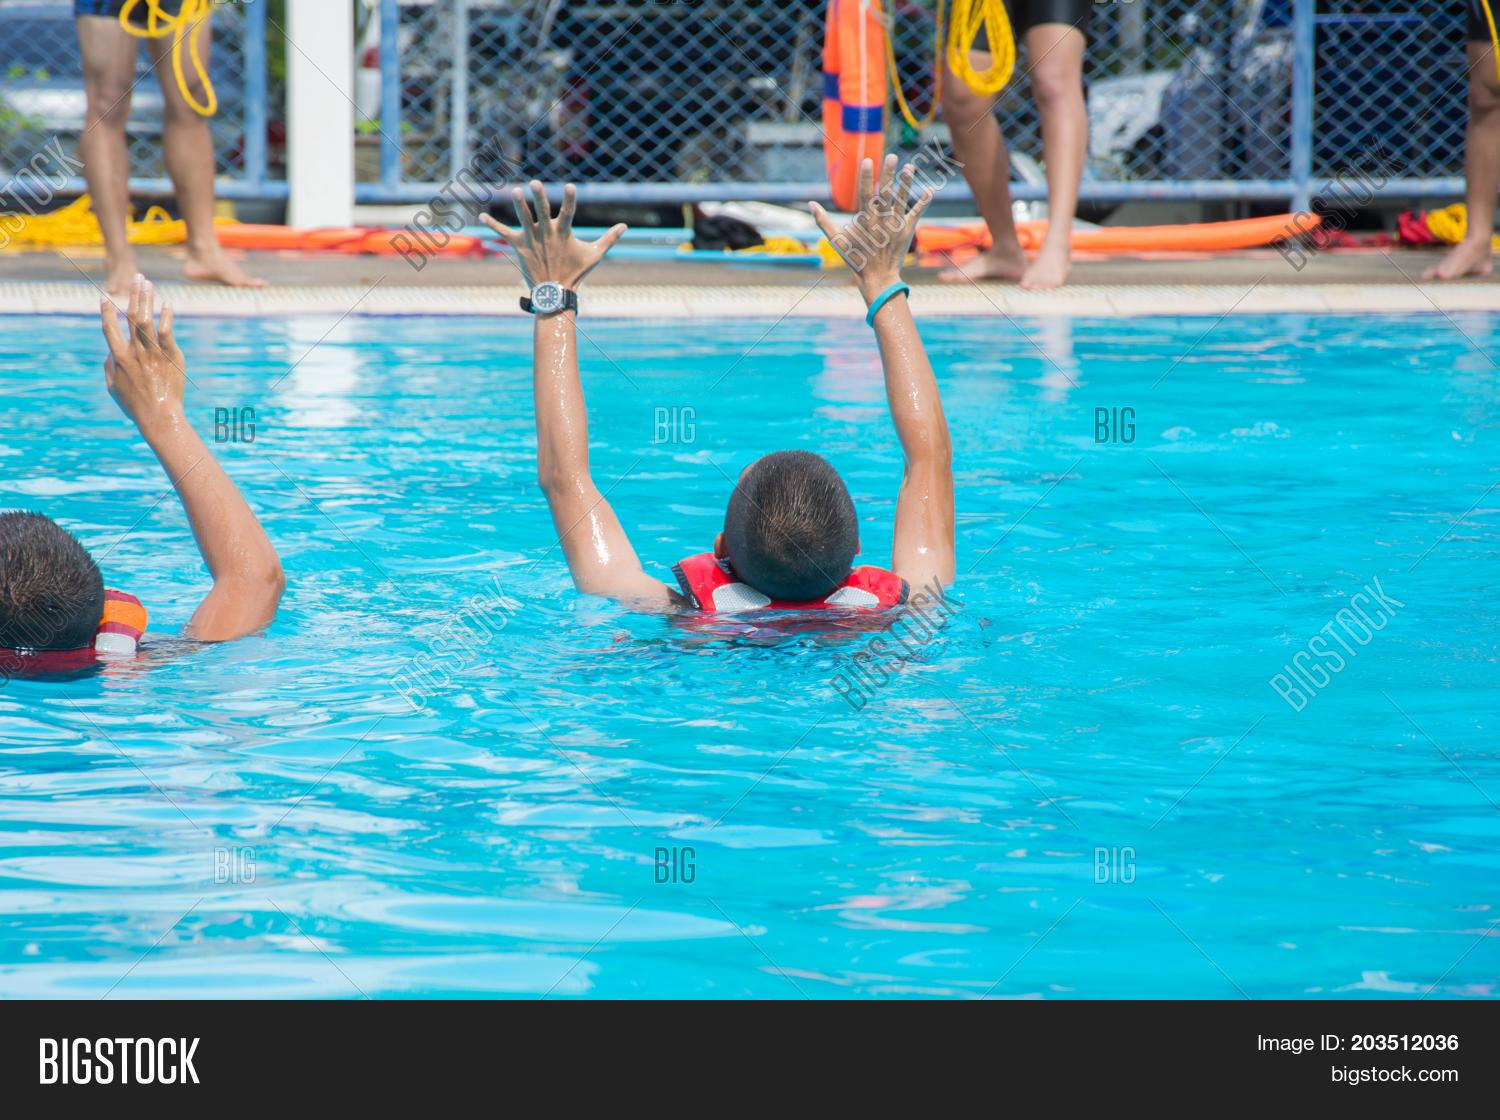drowning: (456, 158, 1053, 688)
